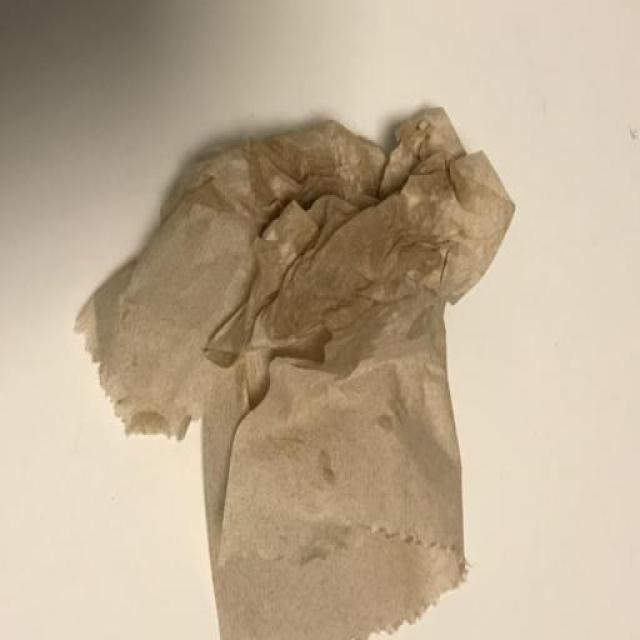Random Trash: (74, 103, 516, 640)
